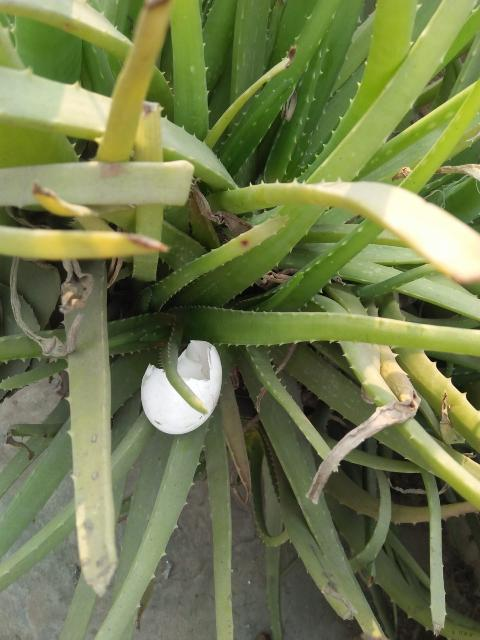Roto: (139, 339, 222, 435)
